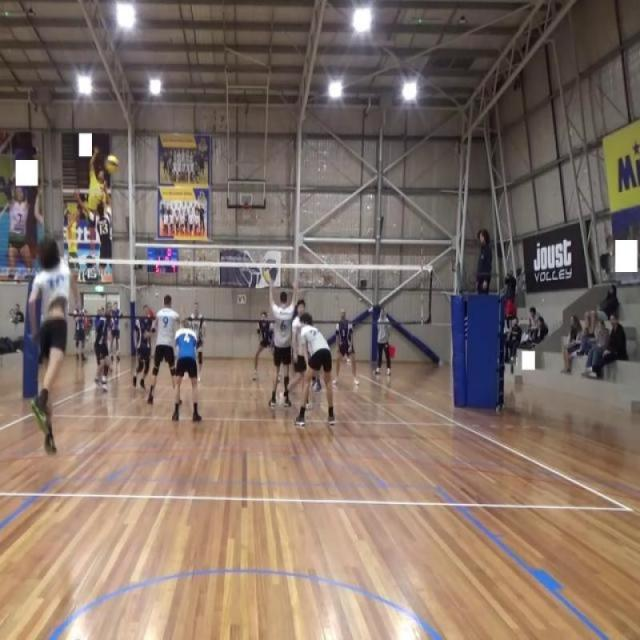volleyball: (104, 152, 120, 175)
